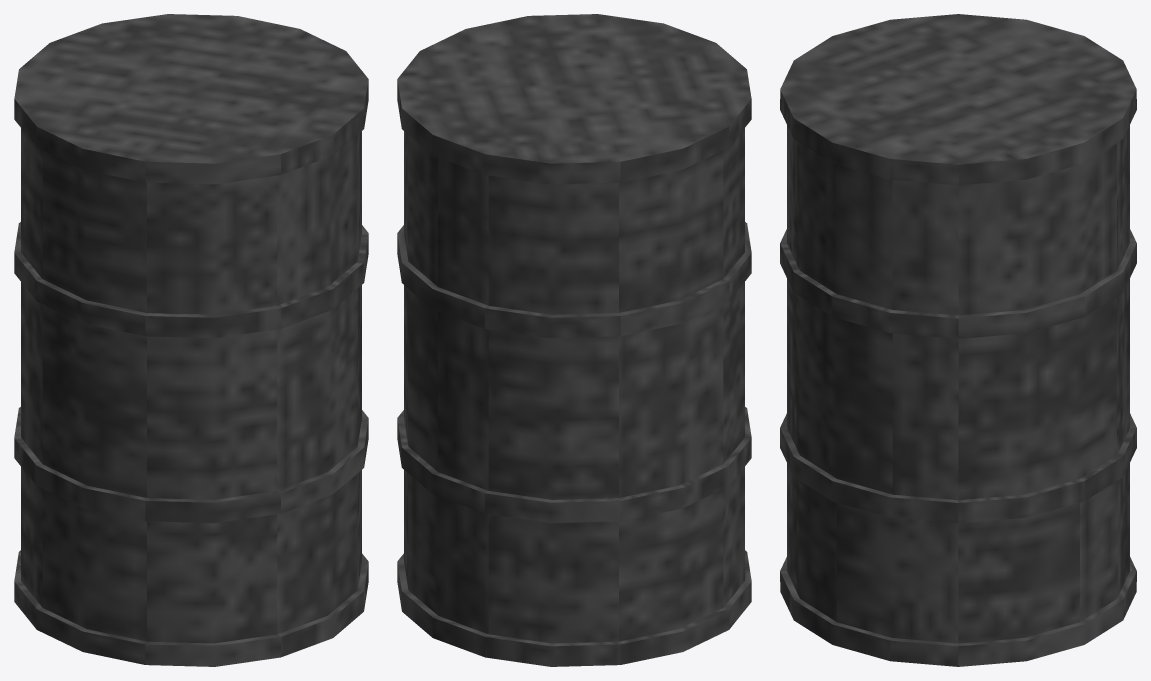
Rendered from Barrel.fbx.
3 renders of one model, left to right at view 1: azimuth 30°, elevation 25°; view 2: azimuth 150°, elevation 25°; view 3: azimuth 270°, elevation 25°, orthographic.
Parts seen in each view (by area): view 1: Cylinder; view 2: Cylinder; view 3: Cylinder.
Part boxes in pixels (x1,y1,x2,y2): Cylinder: [14, 14, 368, 666]; Cylinder: [397, 14, 751, 666]; Cylinder: [780, 14, 1136, 666].
Bounding box in the file's own units: 98.59 × 153 × 98.59.
